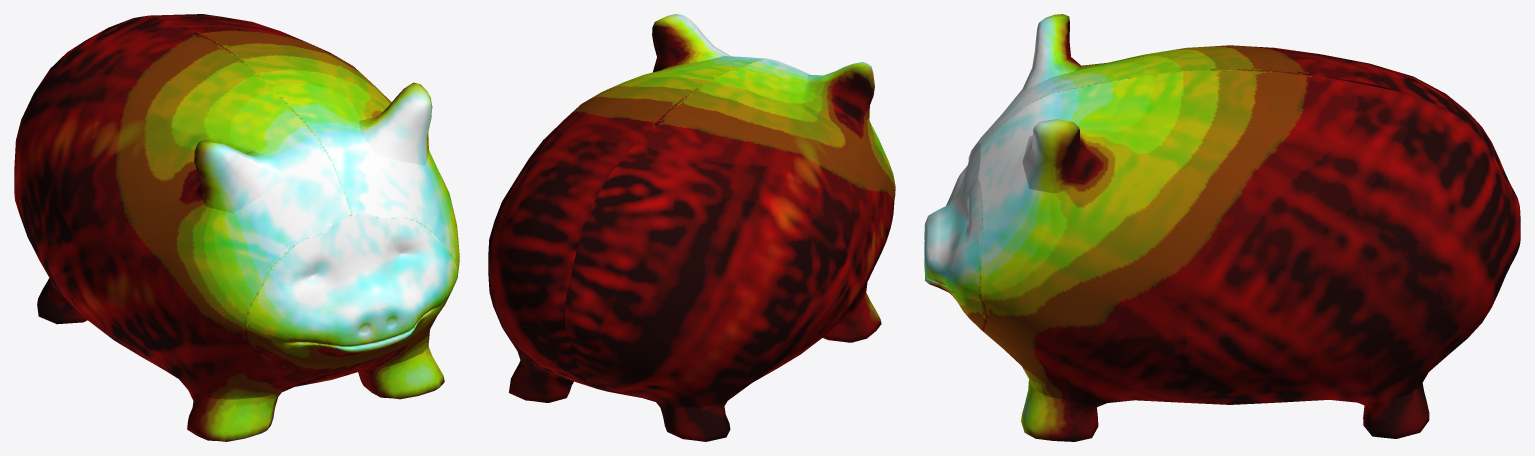
File: pigshatter3.gltf
3 renders of one model, left to right at view 1: azimuth 30°, elevation 25°; view 2: azimuth 150°, elevation 25°; view 3: azimuth 270°, elevation 25°, orthographic. The views are drawn at different scales.
Visible parts, largest first — view 1: pig.007, pig.003, pig.008, pig.001, pig.009, pig.006, pig.014, pig.013, pig.010, pig.012, pig.005; view 2: pig.009, pig.008, pig.005, pig.007, pig.001, pig.014, pig.006, pig.012, pig.011, pig.013; view 3: pig.001, pig.005, pig.004, pig.003, pig.008, pig.014, pig.010, pig.007, pig.011, pig.006, pig.009.
Boxes of the visible parts, <box> form: pig.007: <box>66,90,351,399</box>; pig.003: <box>245,214,457,372</box>; pig.008: <box>21,20,274,353</box>; pig.001: <box>192,26,459,379</box>; pig.009: <box>14,15,168,319</box>; pig.006: <box>194,140,282,213</box>; pig.014: <box>359,82,432,165</box>; pig.013: <box>187,390,280,441</box>; pig.010: <box>358,346,444,399</box>; pig.012: <box>37,278,87,324</box>; pig.005: <box>150,14,279,30</box>; pig.009: <box>565,150,843,407</box>; pig.008: <box>630,72,859,335</box>; pig.005: <box>488,125,650,388</box>; pig.007: <box>727,58,895,319</box>; pig.001: <box>530,56,765,156</box>; pig.014: <box>652,14,730,72</box>; pig.006: <box>807,62,874,119</box>; pig.012: <box>656,401,730,441</box>; pig.011: <box>509,360,573,402</box>; pig.013: <box>823,293,881,342</box>; pig.001: <box>978,69,1321,404</box>; pig.005: <box>1321,76,1520,402</box>; pig.004: <box>1182,175,1382,404</box>; pig.003: <box>924,138,986,330</box>; pig.008: <box>1144,45,1369,85</box>; pig.014: <box>1022,119,1089,193</box>; pig.010: <box>1021,380,1105,441</box>; pig.007: <box>978,54,1144,148</box>; pig.011: <box>1358,383,1429,438</box>; pig.006: <box>1022,14,1080,88</box>; pig.009: <box>1369,63,1520,216</box>.
Bounding box in the file's own units: 3.81 × 3.19 × 5.49.
1 material, 1 textured.
